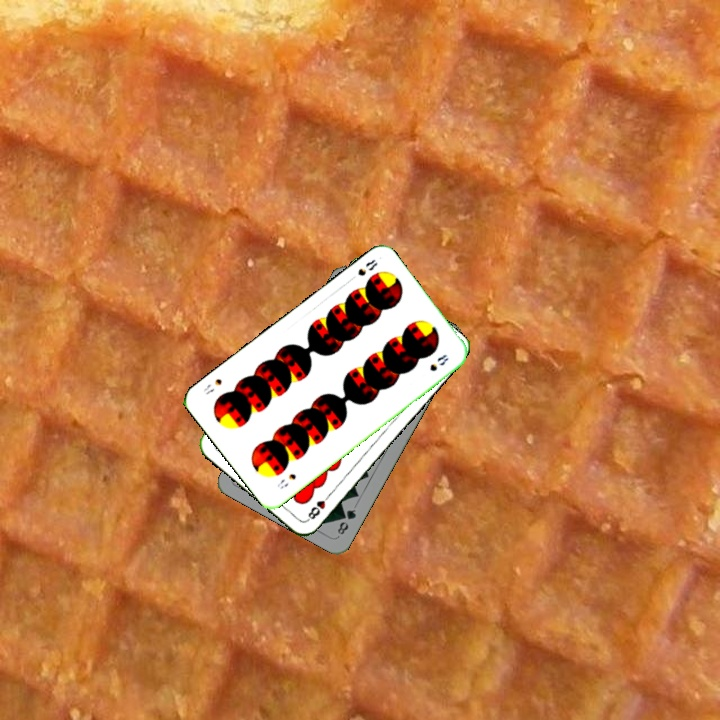G8: (333, 505, 359, 537)
H8: (303, 489, 333, 524)
S8: (354, 255, 380, 279), (273, 469, 299, 491)
